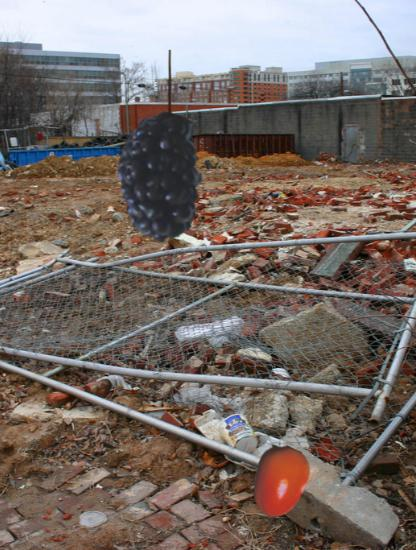Kaki: (242, 445, 316, 519)
Mulberry: (95, 113, 225, 243)
